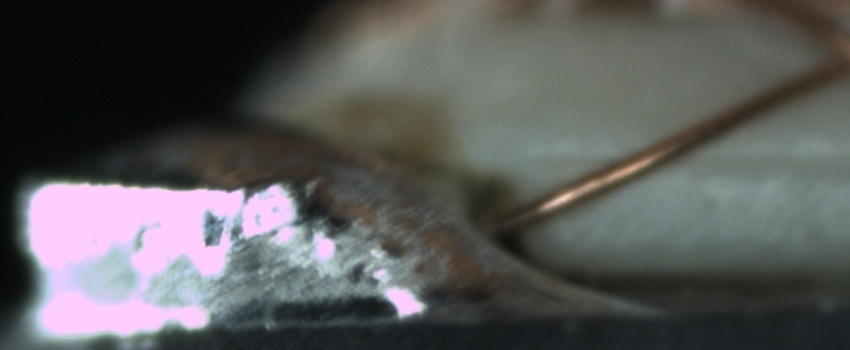DL: (538, 127, 847, 190)
